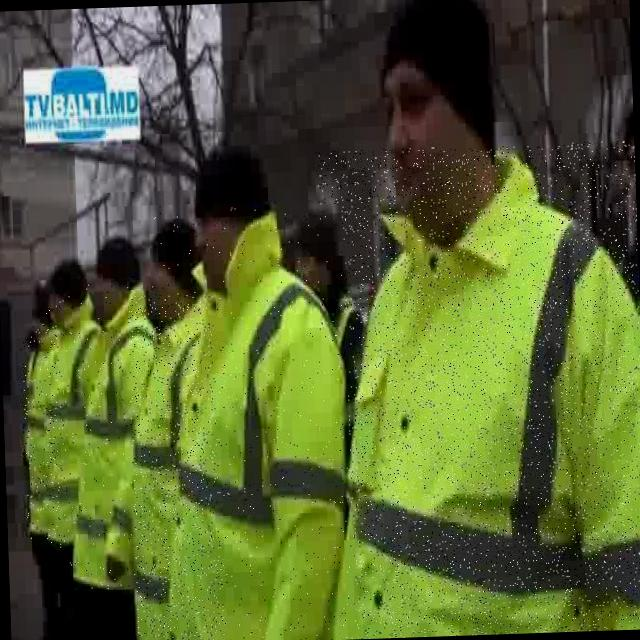no-helmet: (359, 0, 519, 237), (185, 128, 284, 298), (130, 207, 208, 323), (87, 234, 152, 328), (46, 244, 97, 325), (20, 298, 64, 353)
vest: (314, 140, 640, 640), (150, 204, 356, 640), (59, 278, 168, 596), (126, 291, 224, 640), (36, 294, 106, 550), (19, 326, 69, 538)
